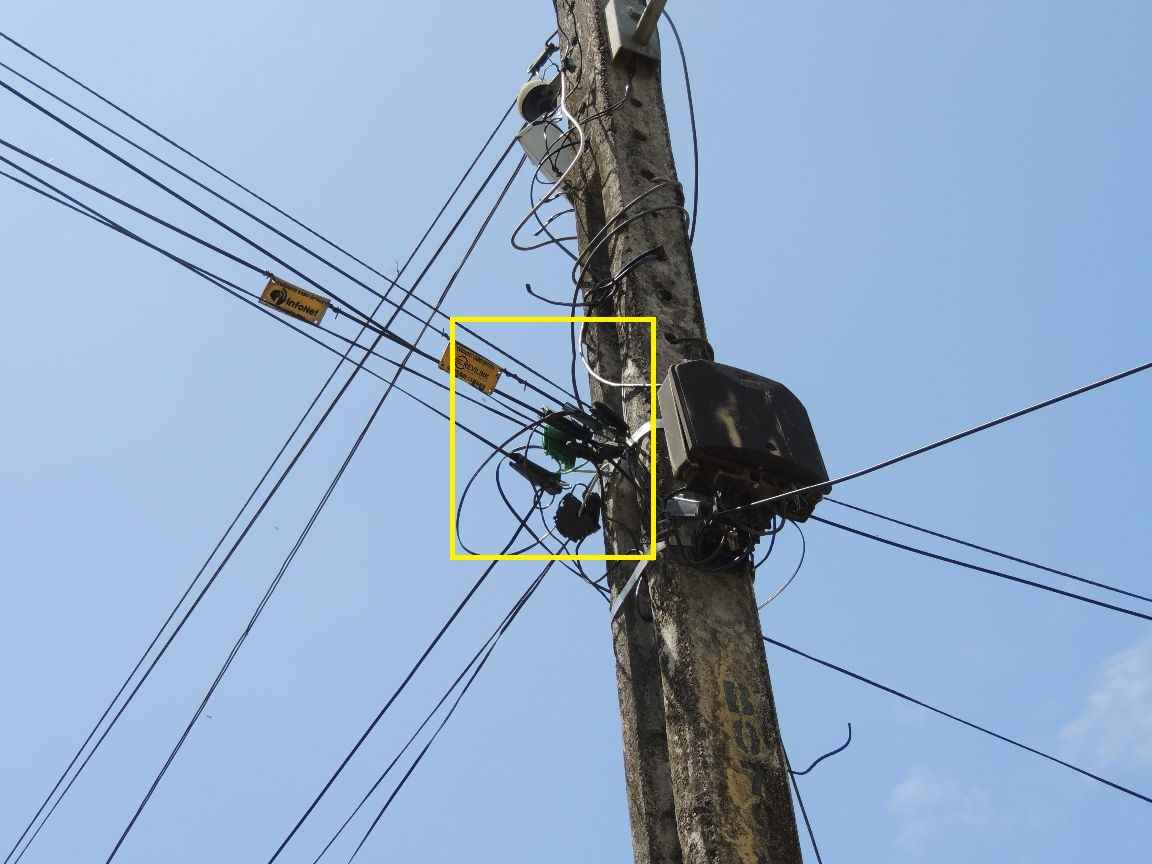caixa_derivacao: (649, 340, 824, 530)
drop: (557, 380, 637, 455), (495, 435, 564, 500), (542, 492, 614, 545)
poste: (531, 4, 793, 858)
